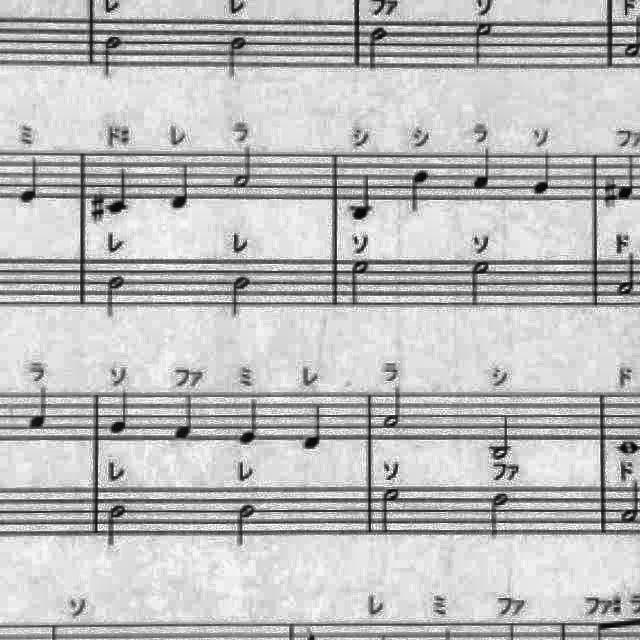Diez: (90, 190, 108, 226), (600, 180, 618, 212)
Full-note: (615, 436, 640, 459), (639, 436, 640, 459)
Half-note: (466, 256, 494, 312), (469, 18, 497, 74), (362, 24, 392, 76), (345, 256, 373, 310), (232, 499, 260, 551), (488, 412, 516, 464), (102, 498, 130, 550), (378, 485, 404, 539), (225, 33, 253, 83), (102, 271, 130, 321), (487, 490, 513, 542), (99, 34, 127, 82), (231, 142, 257, 192), (229, 270, 255, 320), (614, 252, 640, 300), (616, 476, 640, 528), (382, 384, 406, 434)
Quarter-note: (346, 170, 378, 226), (235, 394, 265, 450), (16, 153, 44, 207), (408, 164, 436, 216), (300, 400, 328, 452), (528, 148, 556, 200), (23, 385, 52, 435), (468, 145, 496, 195), (105, 162, 131, 215), (106, 386, 132, 439), (616, 150, 640, 206), (172, 393, 198, 443), (170, 158, 194, 212)
